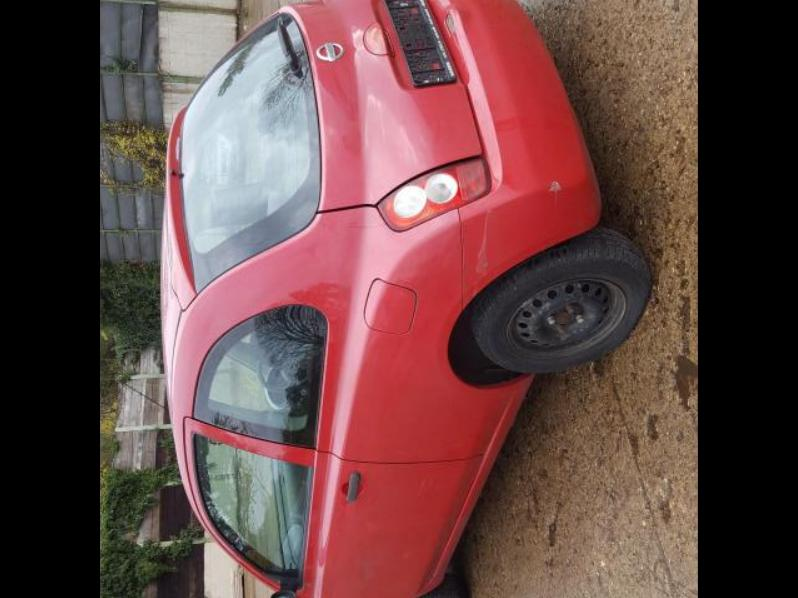Missing part: (389, 0, 450, 82)
Paint chip: (547, 179, 563, 191)
Scratch: (476, 209, 489, 275), (418, 476, 429, 494), (554, 190, 559, 208)
